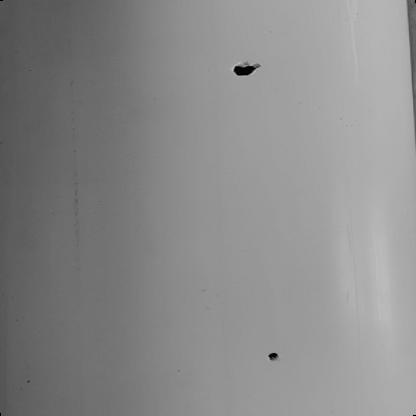kongdong: (227, 56, 279, 85), (259, 344, 292, 368)
